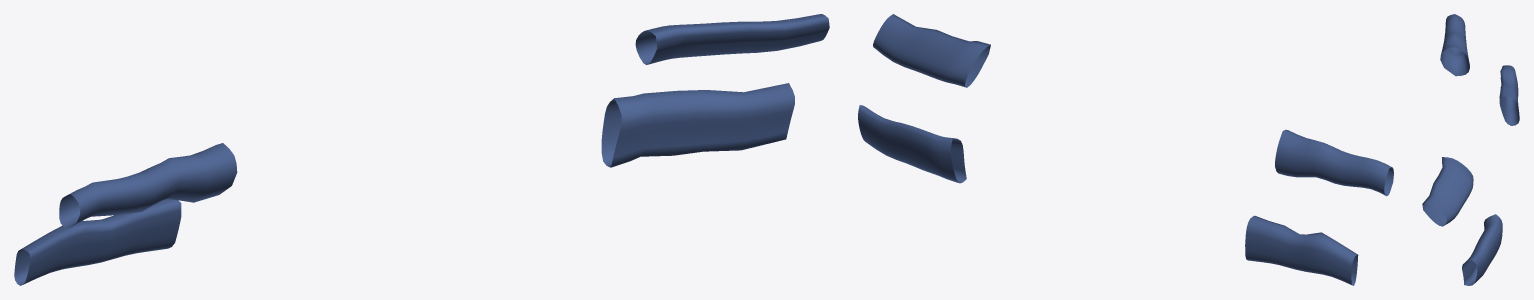
File: leftatrium_blood.glb
3 views of the same model, side by side, from view 1: azimuth 30°, elevation 25°; view 2: azimuth 150°, elevation 25°; view 3: azimuth 270°, elevation 25° (orthographic). The views are drawn at different scales.
Visible parts, largest first — view 1: Left atrium.002; view 2: Left atrium.002; view 3: Left atrium.002.
Part boxes in pixels (left/top/right/bottom): Left atrium.002: left=14, top=14, right=829, bottom=285; Left atrium.002: left=858, top=14, right=1393, bottom=285; Left atrium.002: left=1422, top=14, right=1519, bottom=285.
Bounding box in the file's own units: 3.71 × 0.7732 × 0.7478.
